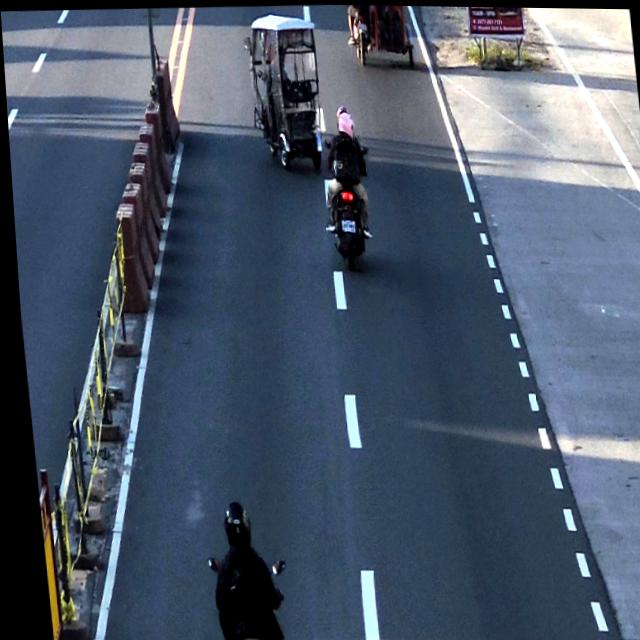License-Plate: (336, 213, 355, 236)
Motorcycle: (194, 495, 279, 640), (315, 108, 372, 269)
